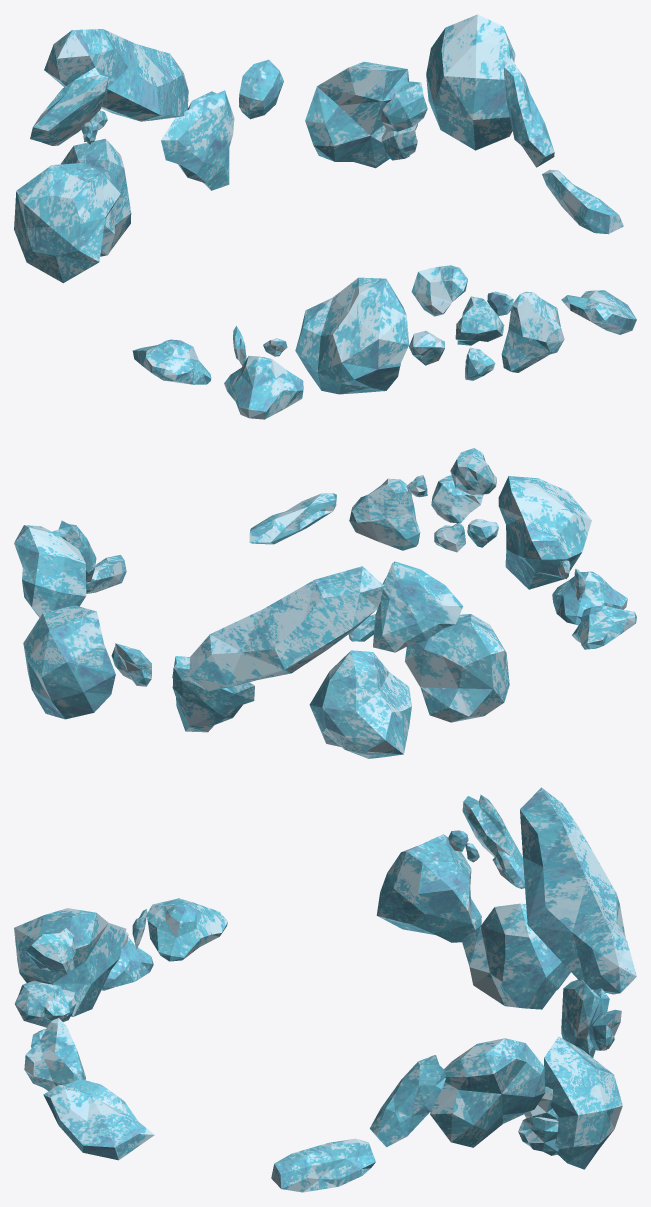
File: BGIceRock.obj
The picture shows the model from 3 angles, top to bottom: view 1: azimuth 30°, elevation 25°; view 2: azimuth 150°, elevation 25°; view 3: azimuth 270°, elevation 25°; orthographic projection. The views are drawn at different scales.
Parts seen in each view (by area): view 1: rock.014; view 2: rock.014; view 3: rock.014.
Boxes of the visible parts, x1,y1,x2,y2 form: rock.014: (14,14,636,419); rock.014: (14,448,636,758); rock.014: (14,787,636,1192).
Bounding box in the file's own units: 6.16 × 2.52 × 6.34.
1 material, 1 textured.
